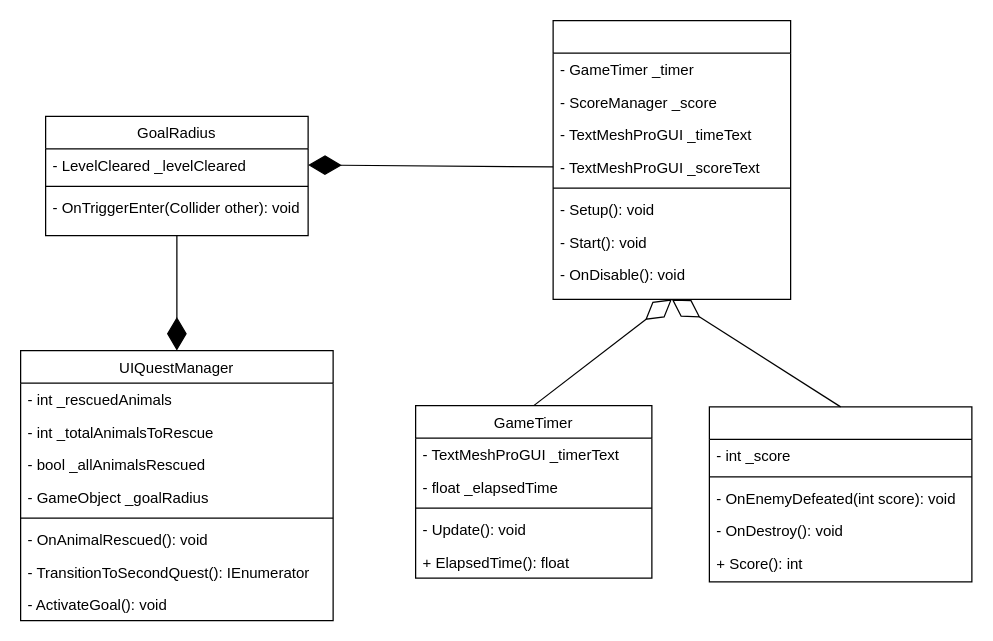
The diagram is 993 pixels wide and 641 high, and some of its shapes have lost their labels. Here are the shapes that lost their labels. From the top down, the box of each, then its label:
(552, 19, 791, 299): LevelCleared
(708, 406, 972, 582): ScoreManager
